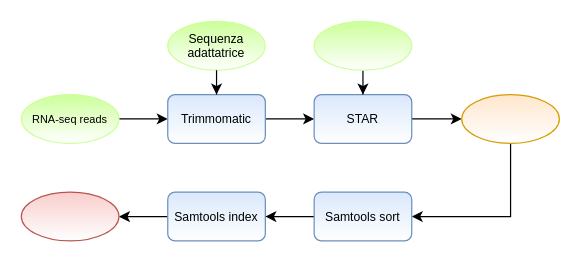
Some shapes in this 581 by 262 pixel diagram are drawn without their labels. Here are the shapes that lost their labels. From the top down, the centre of each, then its label:
At pixel 362 45: "Genoma di riferimento".
At pixel 510 118: "File di allineamento".
At pixel 69 216: "File di allineamento compressi".
